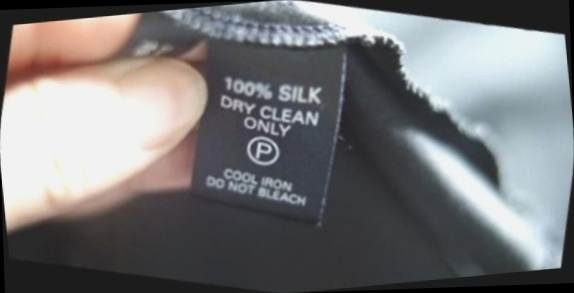dry_clean_any_solvent_except_trichloroethylene: (239, 126, 290, 174)
